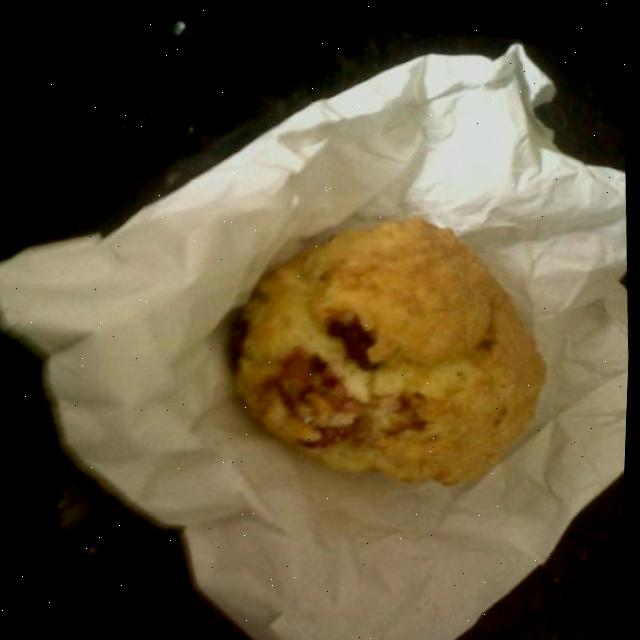面包点心: (0, 32, 639, 640)
